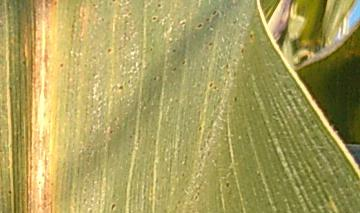tarspot: (231, 91, 241, 106), (246, 31, 257, 42), (106, 45, 114, 58), (116, 82, 126, 92), (110, 202, 119, 213), (169, 45, 178, 56), (56, 62, 68, 70), (205, 40, 217, 48), (223, 180, 232, 190), (5, 188, 15, 197), (237, 46, 245, 57), (197, 123, 205, 134), (207, 81, 216, 89), (150, 15, 158, 23), (203, 15, 211, 23), (155, 2, 164, 9), (196, 20, 202, 30)
